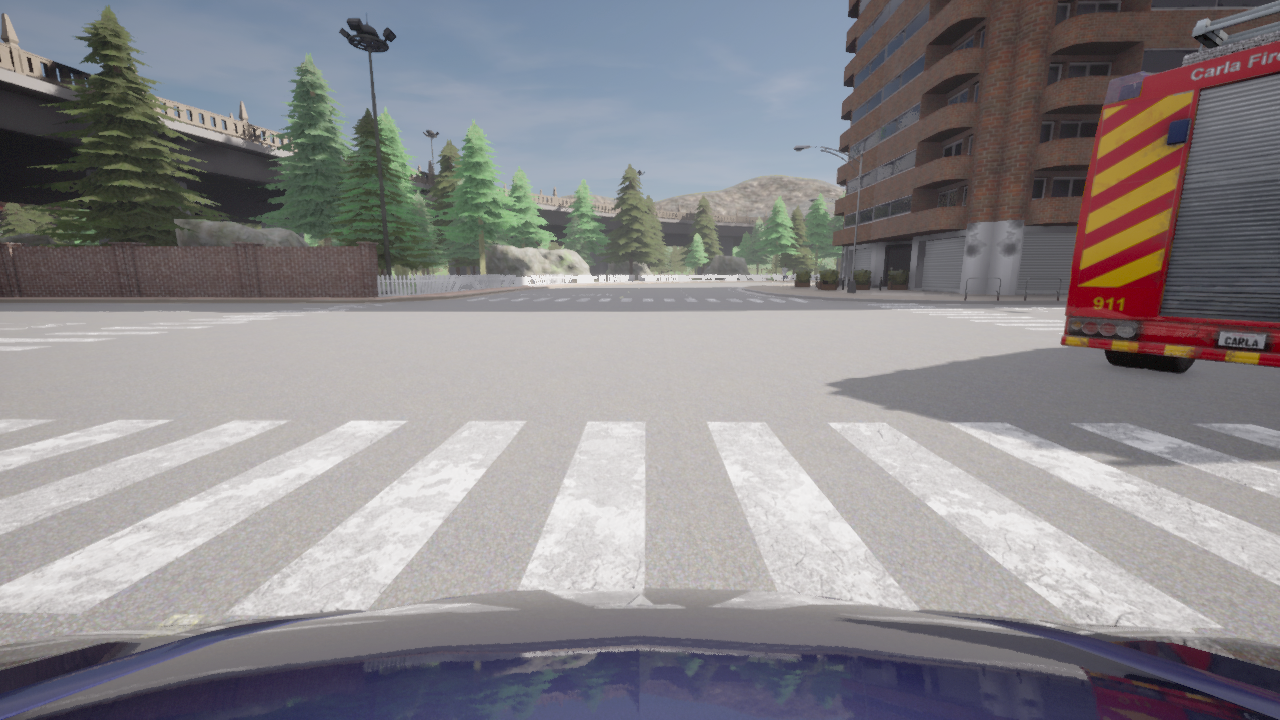cyclist: (0, 588, 1279, 719), (1061, 1, 1279, 372)
pedestrian: (781, 262, 788, 288)
